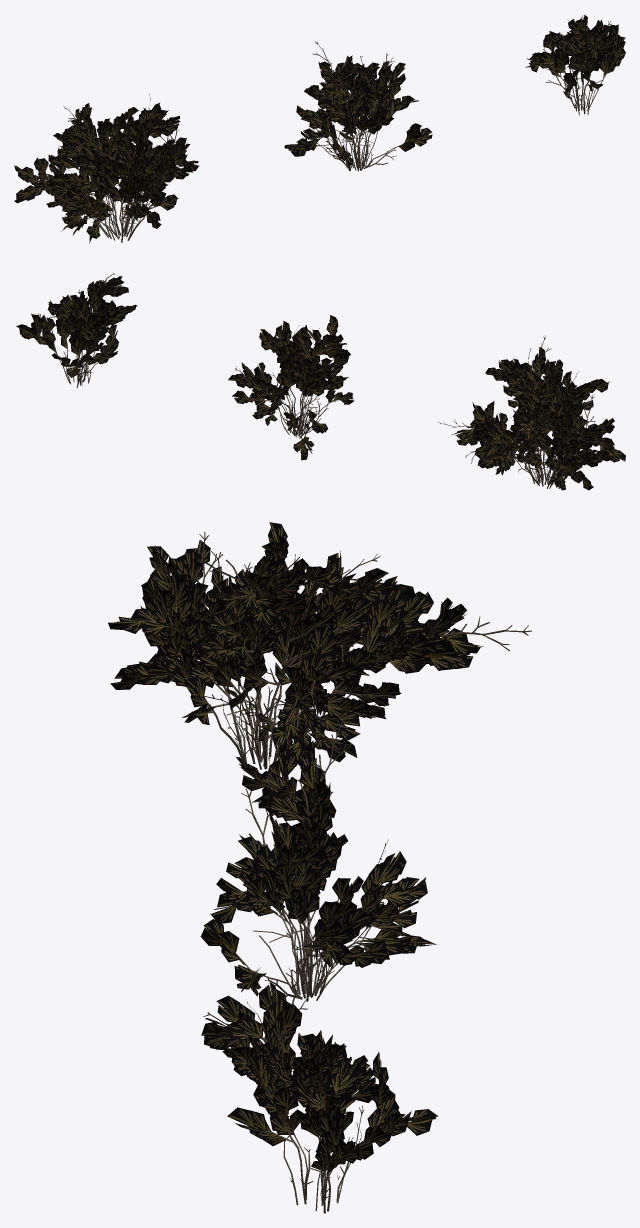
Rendered from wild_rooibos_bush.glb.
3 renders of one model, top to bottom at view 1: azimuth 30°, elevation 25°; view 2: azimuth 150°, elevation 25°; view 3: azimuth 270°, elevation 25°, orthographic. The views are drawn at different scales.
Visible parts, largest first — view 1: wild_rooibos_bush_a, wild_rooibos_bush_b, wild_rooibos_bush_c; view 2: wild_rooibos_bush_a, wild_rooibos_bush_b, wild_rooibos_bush_c; view 3: wild_rooibos_bush_a, wild_rooibos_bush_b, wild_rooibos_bush_c.
Part boxes in pixels (left/top/right/bottom): wild_rooibos_bush_a: left=14, top=93, right=198, bottom=243; wild_rooibos_bush_b: left=284, top=41, right=432, bottom=171; wild_rooibos_bush_c: left=525, top=15, right=625, bottom=115; wild_rooibos_bush_a: left=438, top=335, right=625, bottom=490; wild_rooibos_bush_b: left=228, top=315, right=354, bottom=460; wild_rooibos_bush_c: left=16, top=272, right=137, bottom=387; wild_rooibos_bush_a: left=108, top=522, right=531, bottom=769; wild_rooibos_bush_b: left=200, top=718, right=437, bottom=1001; wild_rooibos_bush_c: left=201, top=982, right=438, bottom=1213.
Bounding box in the file's own units: 2.65 × 0.5413 × 0.8434.
3 materials, 3 textured.
